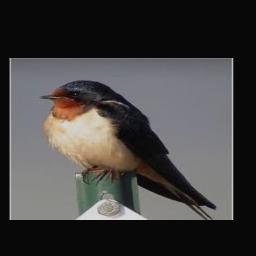Swallow: (39, 80, 218, 220)
